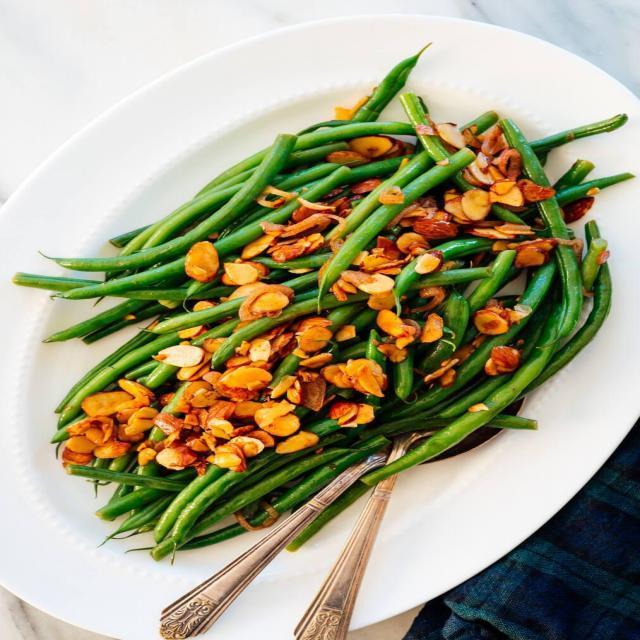Beans: (14, 53, 621, 567)
